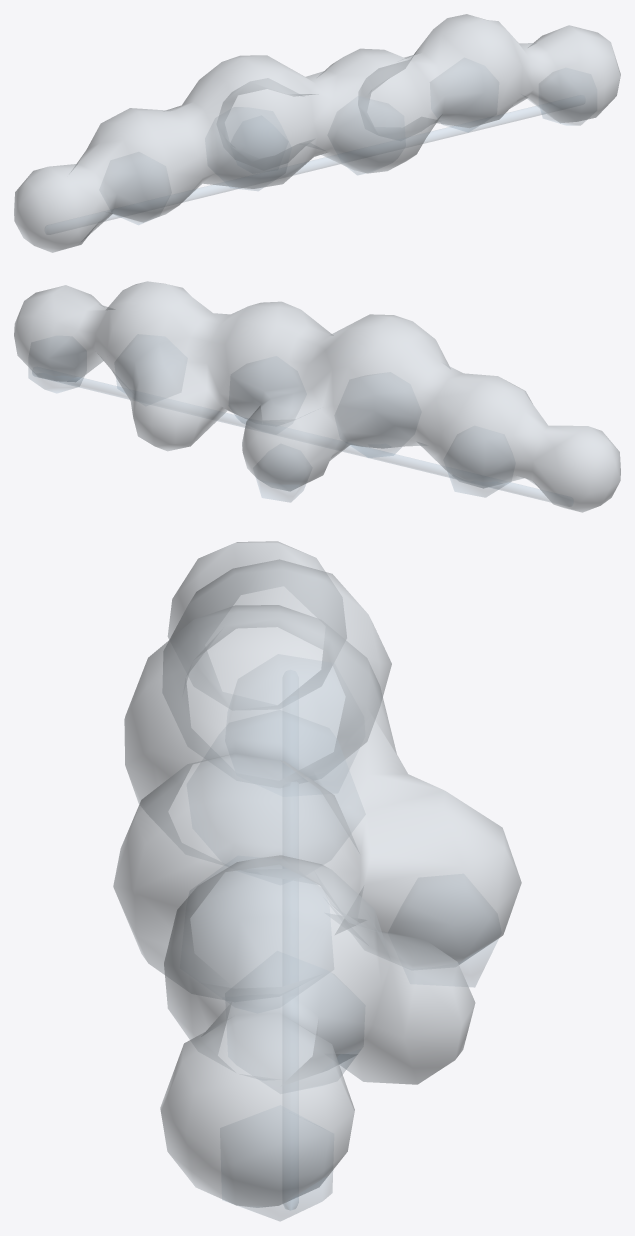
The model's file is cloud_bank_b.glb.
3 views of the same model, one above another, from view 1: azimuth 30°, elevation 25°; view 2: azimuth 150°, elevation 25°; view 3: azimuth 270°, elevation 25° (orthographic). The views are drawn at different scales.
Visible parts, largest first — view 1: cloud_bank_b; view 2: cloud_bank_b; view 3: cloud_bank_b.
Part boxes in pixels (bbox=[...]): cloud_bank_b: bbox=[14, 14, 620, 252]; cloud_bank_b: bbox=[14, 281, 620, 512]; cloud_bank_b: bbox=[113, 541, 521, 1220].
Bounding box in the file's own units: 7.49 × 1.85 × 2.23.
